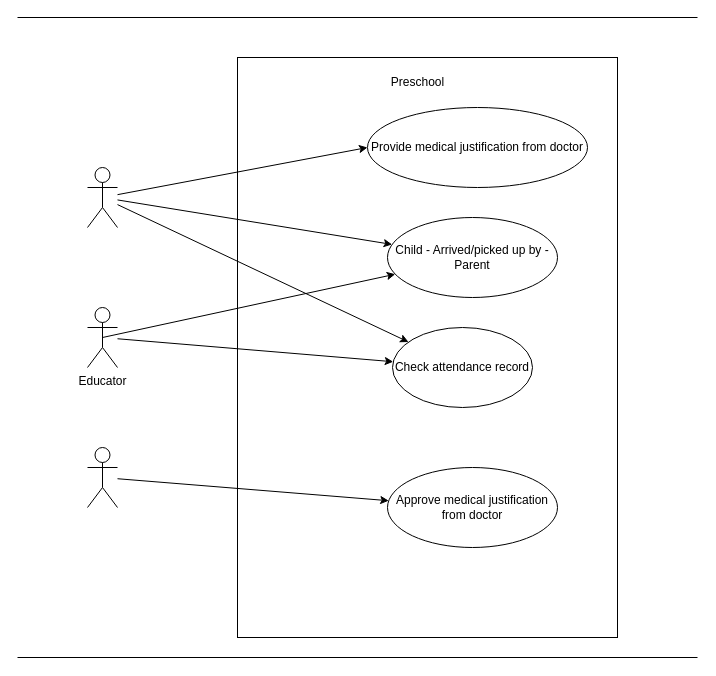
Image size: 716x676. Some labels were removed from this diagram. The shapes that lost their labels are listed below. From the top down, each one's centre as x and y in pixels, then its label:
the point at 102,197: Parent
the point at 102,477: System
